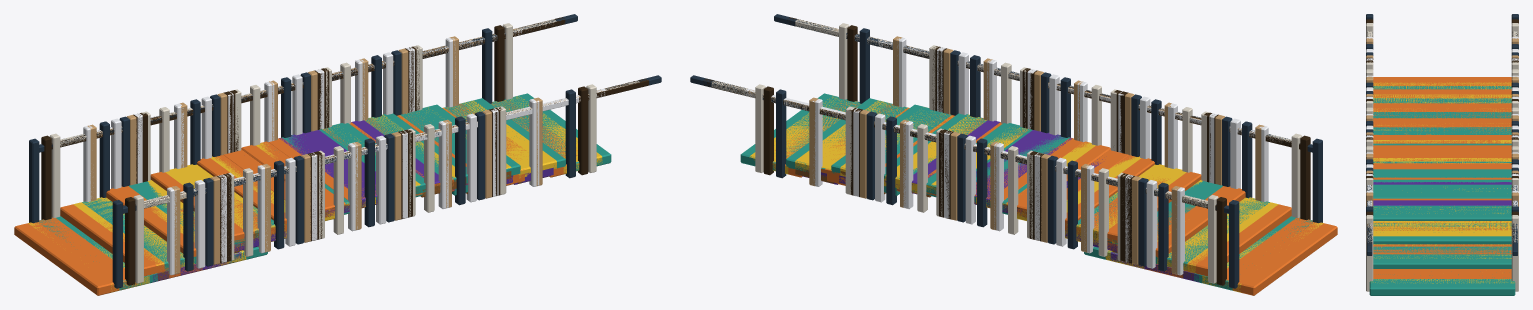
File: flagship_props_009.glb
3 renders of one model, left to right at view 1: azimuth 30°, elevation 25°; view 2: azimuth 150°, elevation 25°; view 3: azimuth 270°, elevation 25°, orthographic. The views are drawn at different scales.
Parts seen in each view (by area): view 1: Prop_BBIsle_Bridge_13, Prop_BBIsle_Bridge_10, Prop_BBIsle_Bridge_14, Prop_BBIsle_Bridge_12, Prop_BBIsle_Bridge_08, Prop_BBIsle_Bridge_17, Prop_BBIsle_Bridge_11, Prop_BBIsle_Bridge_15, Prop_BBIsle_Bridge_16, Prop_BBIsle_Bridge_07, Prop_BBIsle_Bridge_09; view 2: Prop_BBIsle_Bridge_13, Prop_BBIsle_Bridge_10, Prop_BBIsle_Bridge_14, Prop_BBIsle_Bridge_08, Prop_BBIsle_Bridge_12, Prop_BBIsle_Bridge_17, Prop_BBIsle_Bridge_15, Prop_BBIsle_Bridge_11, Prop_BBIsle_Bridge_16, Prop_BBIsle_Bridge_07, Prop_BBIsle_Bridge_09; view 3: Prop_BBIsle_Bridge_10, Prop_BBIsle_Bridge_13, Prop_BBIsle_Bridge_14, Prop_BBIsle_Bridge_08, Prop_BBIsle_Bridge_15, Prop_BBIsle_Bridge_12, Prop_BBIsle_Bridge_11, Prop_BBIsle_Bridge_07, Prop_BBIsle_Bridge_16, Prop_BBIsle_Bridge_17, Prop_BBIsle_Bridge_09.
Boxes of the visible parts, x1,y1,x2,y2 form: Prop_BBIsle_Bridge_13: (14,14,661,295); Prop_BBIsle_Bridge_10: (39,19,639,290); Prop_BBIsle_Bridge_14: (28,17,648,292); Prop_BBIsle_Bridge_12: (111,36,578,275); Prop_BBIsle_Bridge_08: (99,33,524,278); Prop_BBIsle_Bridge_17: (83,30,605,282); Prop_BBIsle_Bridge_11: (87,28,601,280); Prop_BBIsle_Bridge_15: (159,49,519,263); Prop_BBIsle_Bridge_16: (127,39,506,264); Prop_BBIsle_Bridge_07: (134,40,512,269); Prop_BBIsle_Bridge_09: (140,42,522,267); Prop_BBIsle_Bridge_13: (690,14,1337,295); Prop_BBIsle_Bridge_10: (711,19,1312,290); Prop_BBIsle_Bridge_14: (703,17,1323,292); Prop_BBIsle_Bridge_08: (762,33,1252,278); Prop_BBIsle_Bridge_12: (821,35,1240,274); Prop_BBIsle_Bridge_17: (745,28,1268,282); Prop_BBIsle_Bridge_15: (884,47,1192,262); Prop_BBIsle_Bridge_11: (748,28,1264,280); Prop_BBIsle_Bridge_16: (789,40,1224,270); Prop_BBIsle_Bridge_07: (839,40,1217,269); Prop_BBIsle_Bridge_09: (841,43,1211,268); Prop_BBIsle_Bridge_10: (1366,23,1518,295); Prop_BBIsle_Bridge_13: (1366,14,1518,278); Prop_BBIsle_Bridge_14: (1366,19,1518,283); Prop_BBIsle_Bridge_08: (1366,44,1518,205); Prop_BBIsle_Bridge_15: (1366,69,1518,186); Prop_BBIsle_Bridge_12: (1366,49,1518,205); Prop_BBIsle_Bridge_11: (1366,38,1518,226); Prop_BBIsle_Bridge_07: (1366,58,1518,206); Prop_BBIsle_Bridge_16: (1366,55,1518,186); Prop_BBIsle_Bridge_17: (1366,37,1518,227); Prop_BBIsle_Bridge_09: (1366,60,1518,190).
Bounding box in the file's own units: 6.21 × 0.95 × 1.68.
